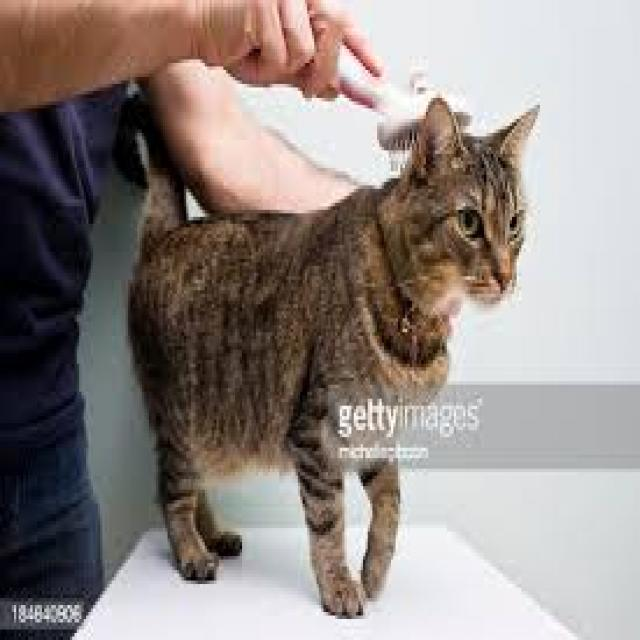Cat: (113, 92, 546, 620)
